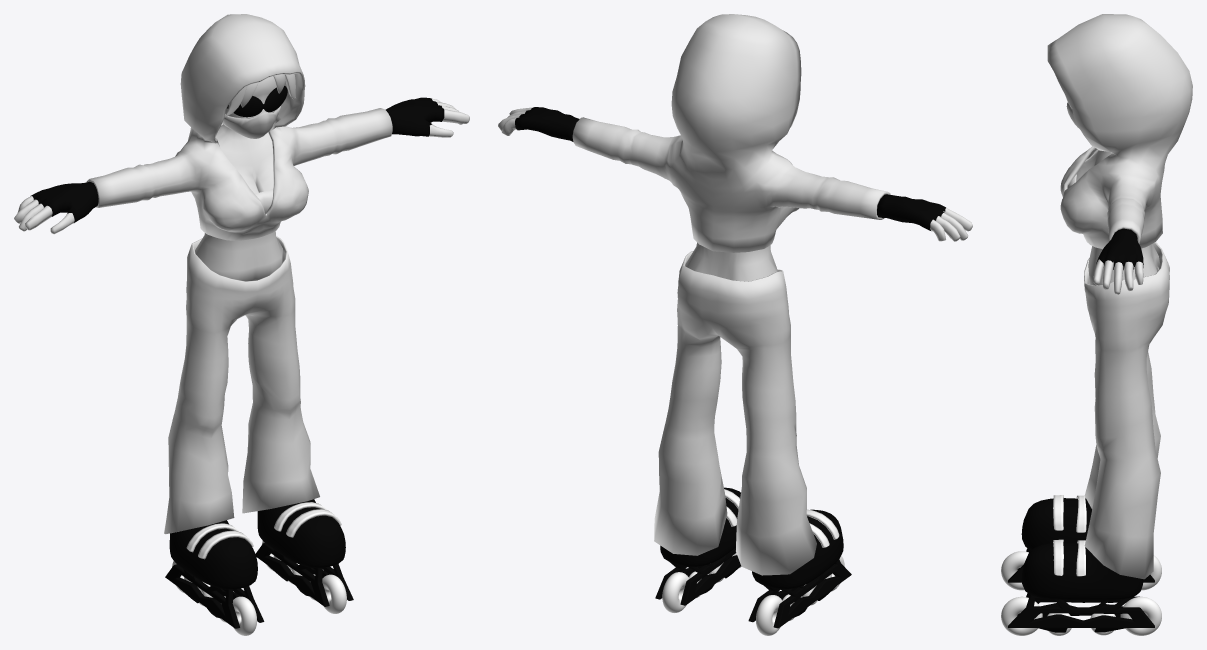
Rendered from CartoonModelUpdateNewSkatesTest.fbx.
The picture shows the model from 3 angles, left to right: view 1: azimuth 30°, elevation 25°; view 2: azimuth 150°, elevation 25°; view 3: azimuth 270°, elevation 25°; orthographic projection. The views are drawn at different scales.
Parts seen in each view (by area): view 1: Skater_LowPoly; view 2: Skater_LowPoly; view 3: Skater_LowPoly.
Part boxes in pixels (left/top/right/bottom): Skater_LowPoly: left=14, top=14, right=469, bottom=635; Skater_LowPoly: left=498, top=14, right=972, bottom=635; Skater_LowPoly: left=1001, top=14, right=1192, bottom=635.
Bounding box in the file's own units: 151 × 185 × 54.23.
